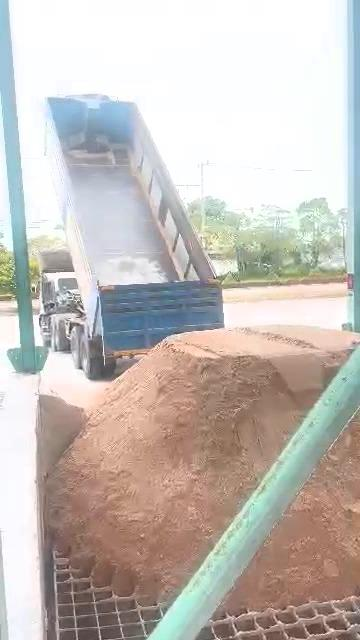sand: (48, 326, 354, 600), (228, 418, 360, 611), (38, 388, 86, 478)
